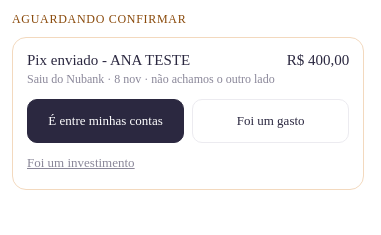
Test case: Transfers › shows the API message when saving fails
The image size is (381, 235).
Click the button "Foi um gasto" at (271, 121), box [192,99,349,143]
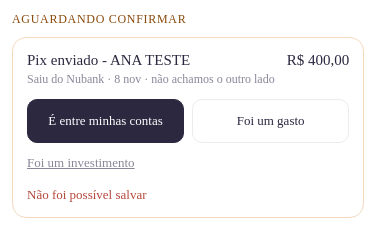
Check: the text "Não foi possível salvar" is shown, box [27,187,146,202]
